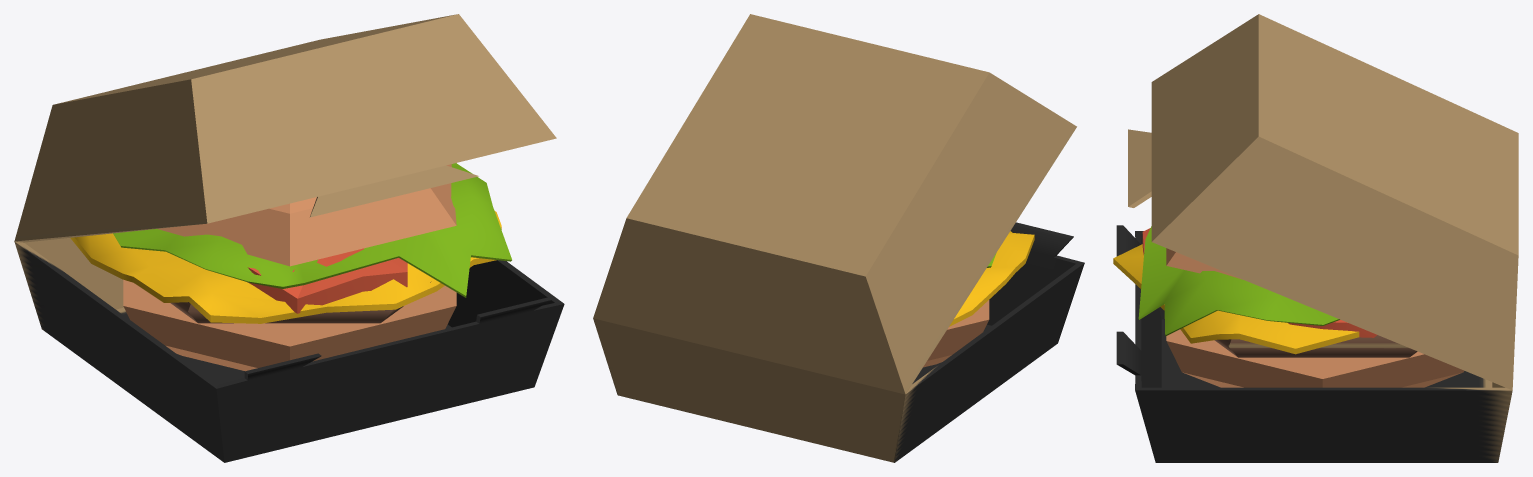
The model's file is donn.fbx.
3 renders of one model, left to right at view 1: azimuth 30°, elevation 25°; view 2: azimuth 150°, elevation 25°; view 3: azimuth 270°, elevation 25°, orthographic. The views are drawn at different scales.
Parts seen in each view (by area): view 1: don_38; view 2: don_38; view 3: don_38.
Part boxes in pixels (x1,y1,x2,y2): don_38: (14,14,564,462); don_38: (593,14,1084,462); don_38: (1113,14,1518,462).
Size of what is drawn, in the model's own units: 201 by 214 by 185.
